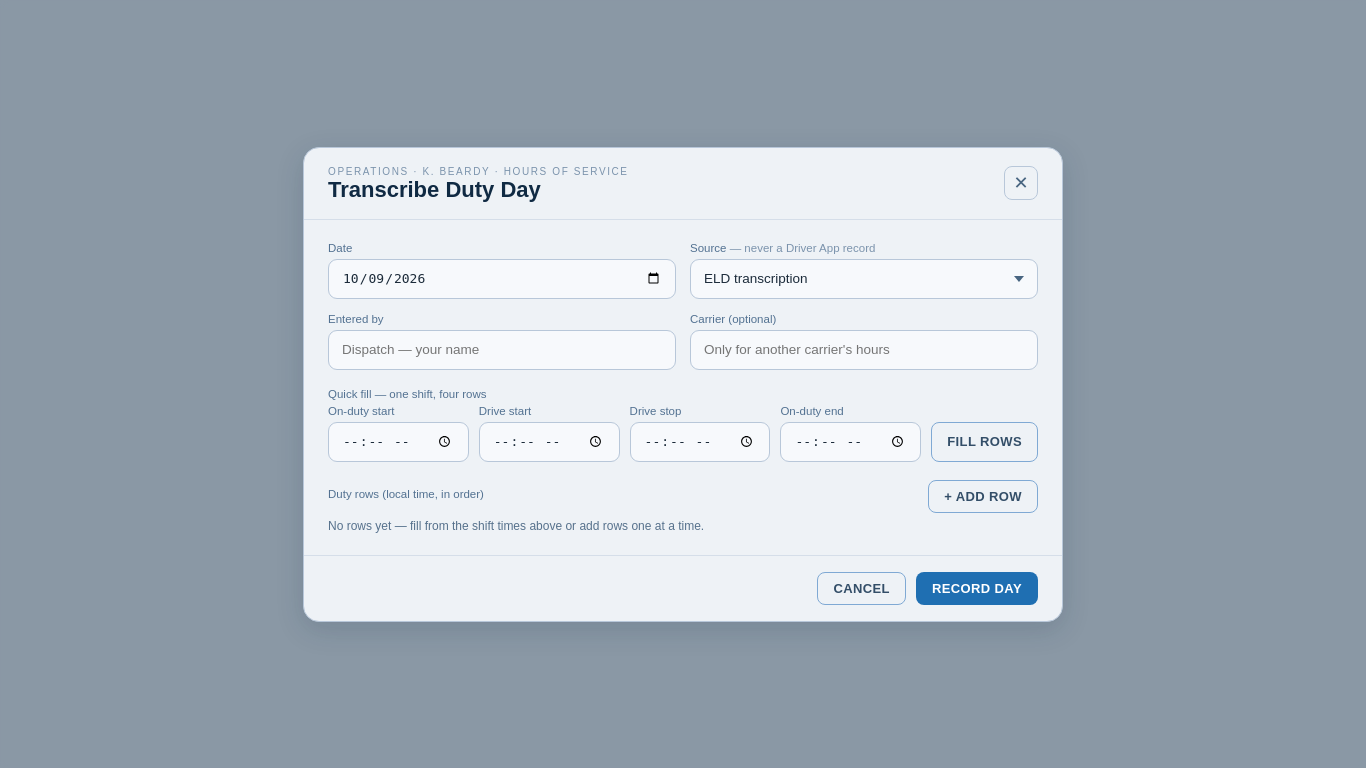
Test case: DutyEventEntryModal › quick-fill produces four ordered rows
Type "06:00" into the time field below "On-duty start". click: [398, 442]
box: [328,422,469,462]
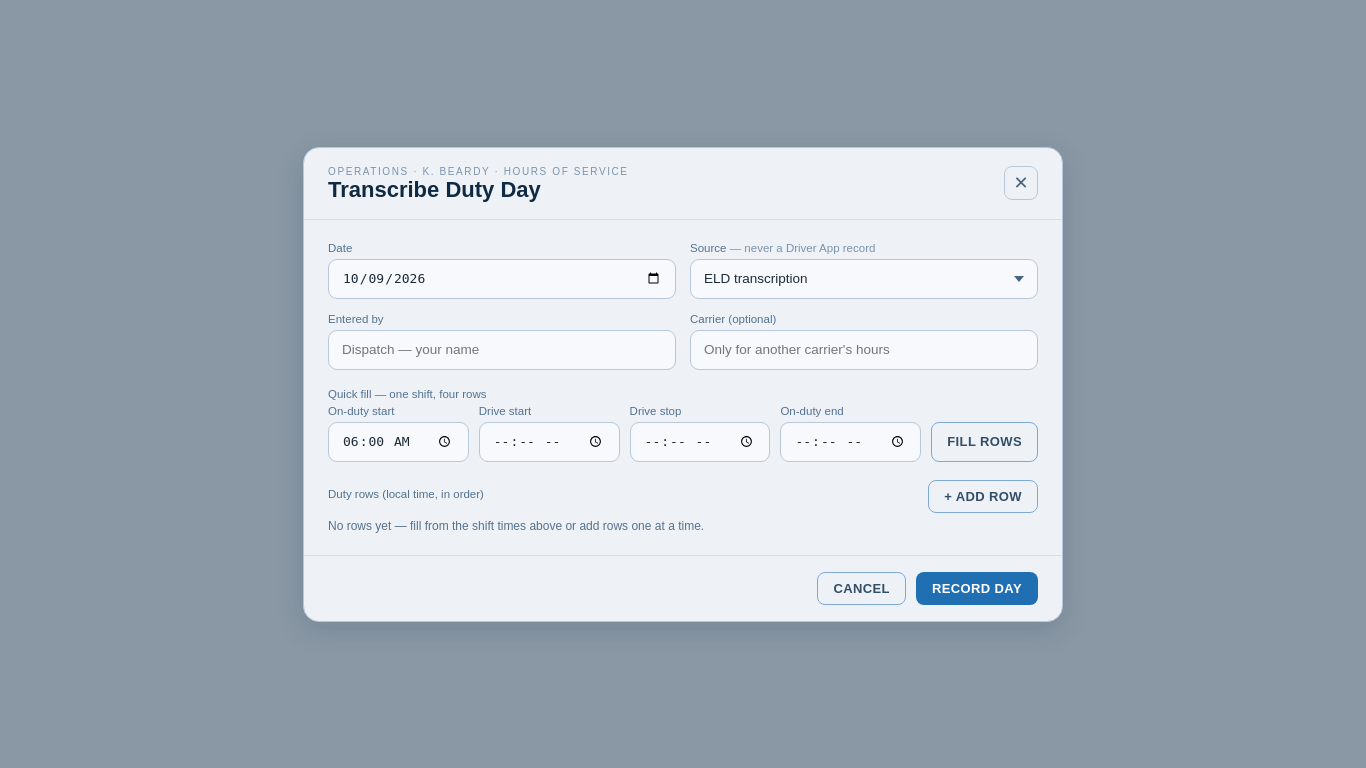
Type "06:30" into the time field below "Drive start". click: [549, 442]
box: [479,422,620,462]
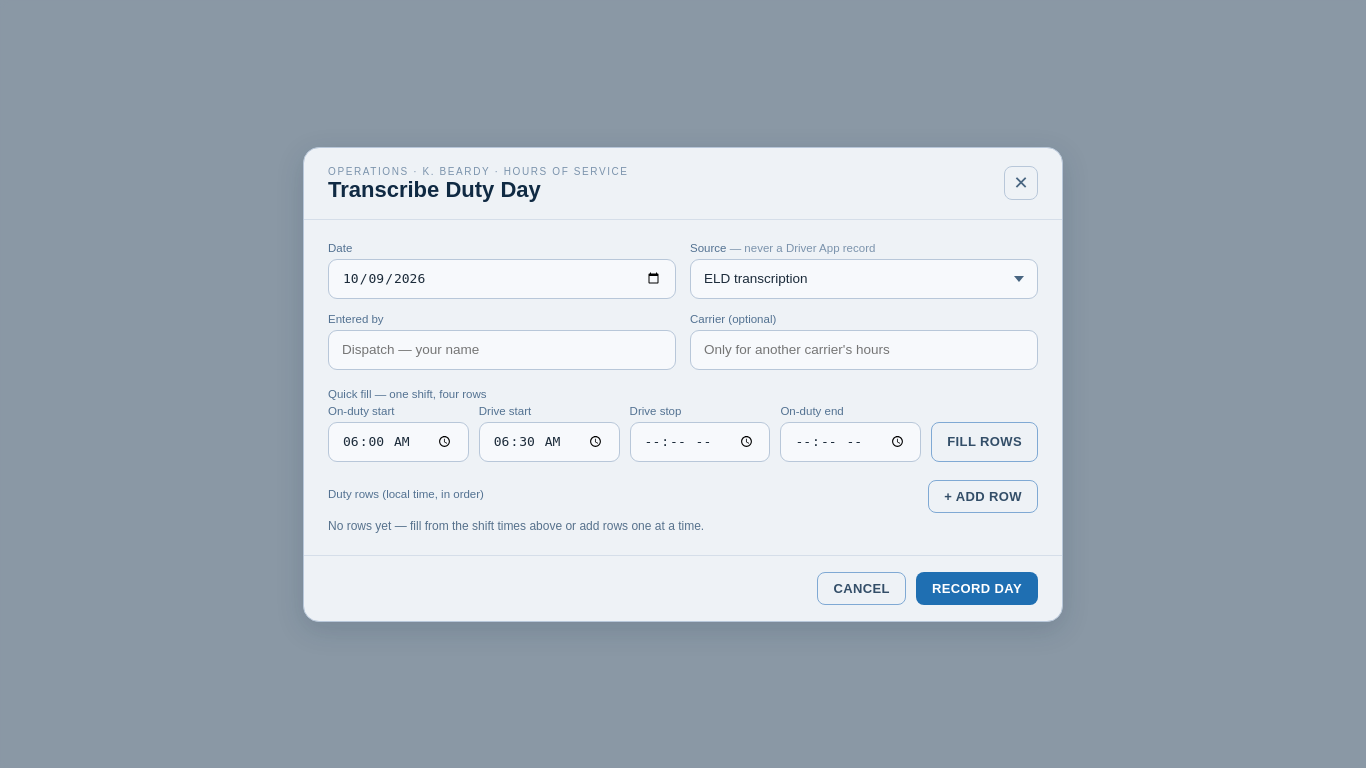
Type "14:00" into the time field below "Drive stop". click: [700, 442]
box: [630,422,770,462]
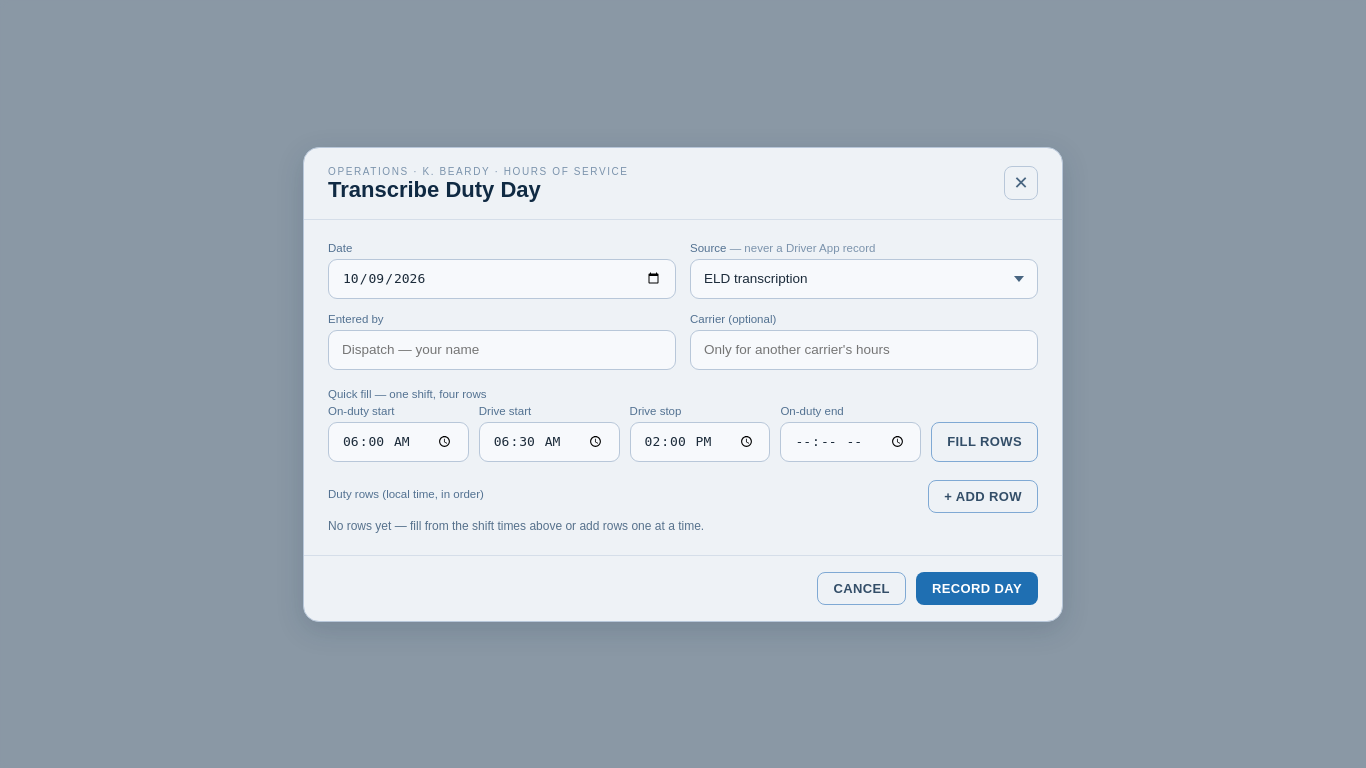
Type "14:30" into the time field below "On-duty end". click: [851, 442]
box: [780,422,921,462]
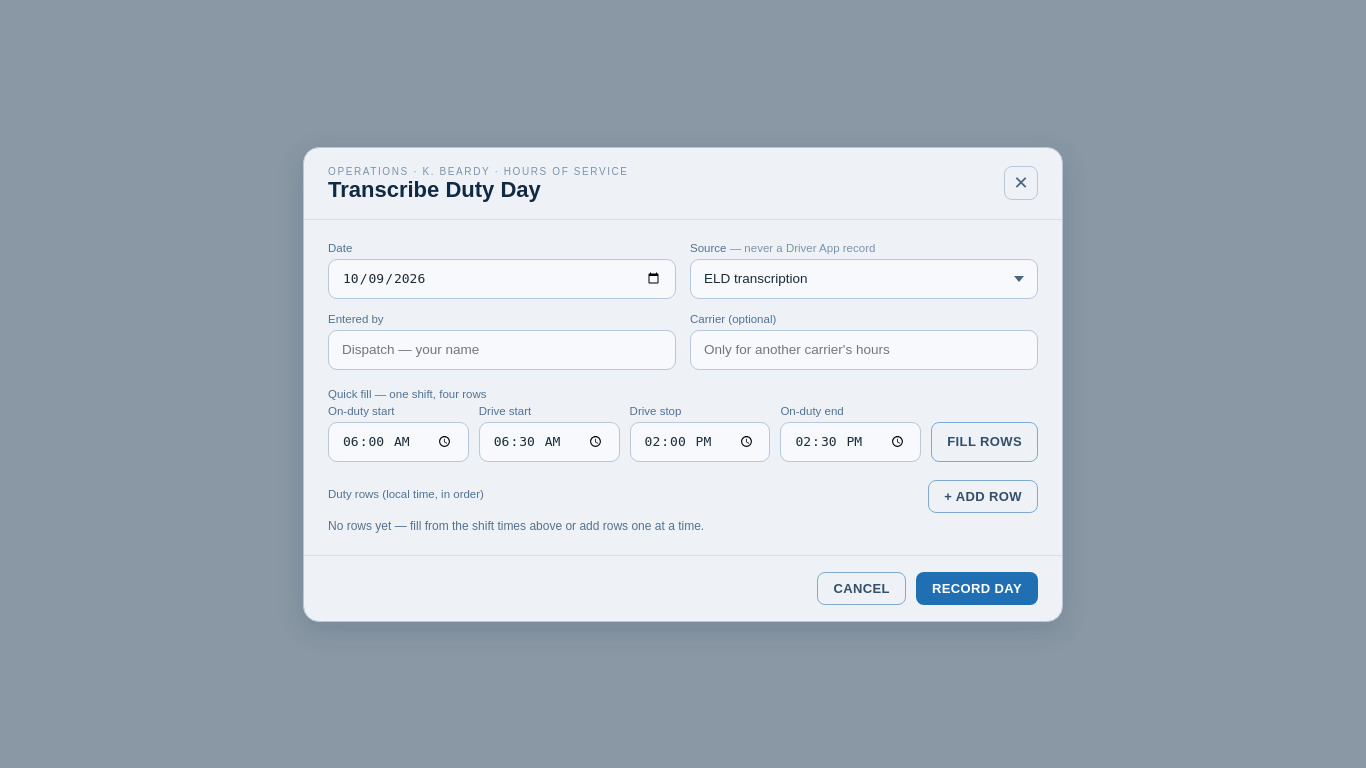
Click the text "FILL ROWS". click: [985, 442]
box: [931,422,1038,462]
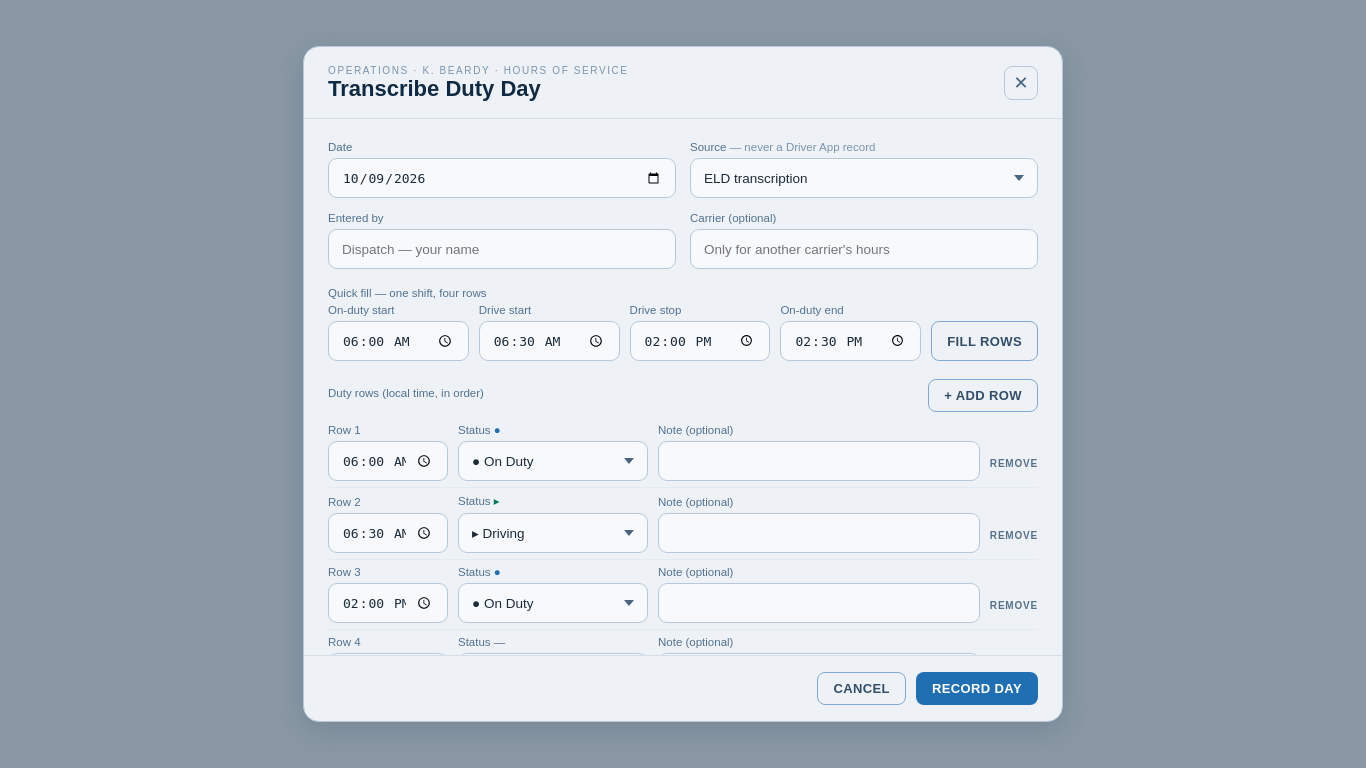
Now the number of elements with test id "entry-row" is 4
